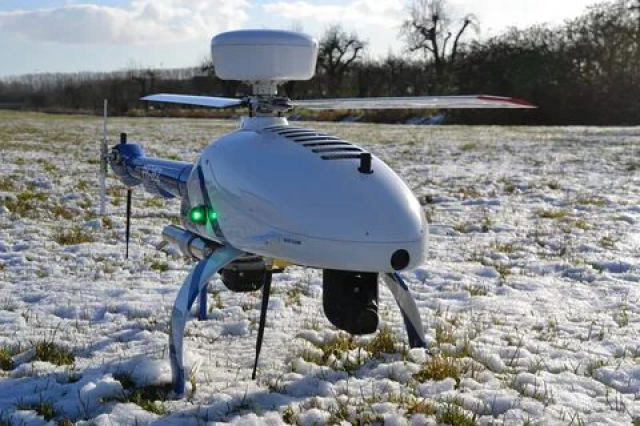military drone: (98, 29, 538, 394)
